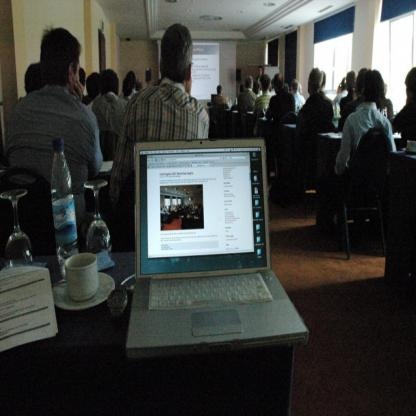board: (122, 137, 308, 358), (52, 136, 78, 263)
